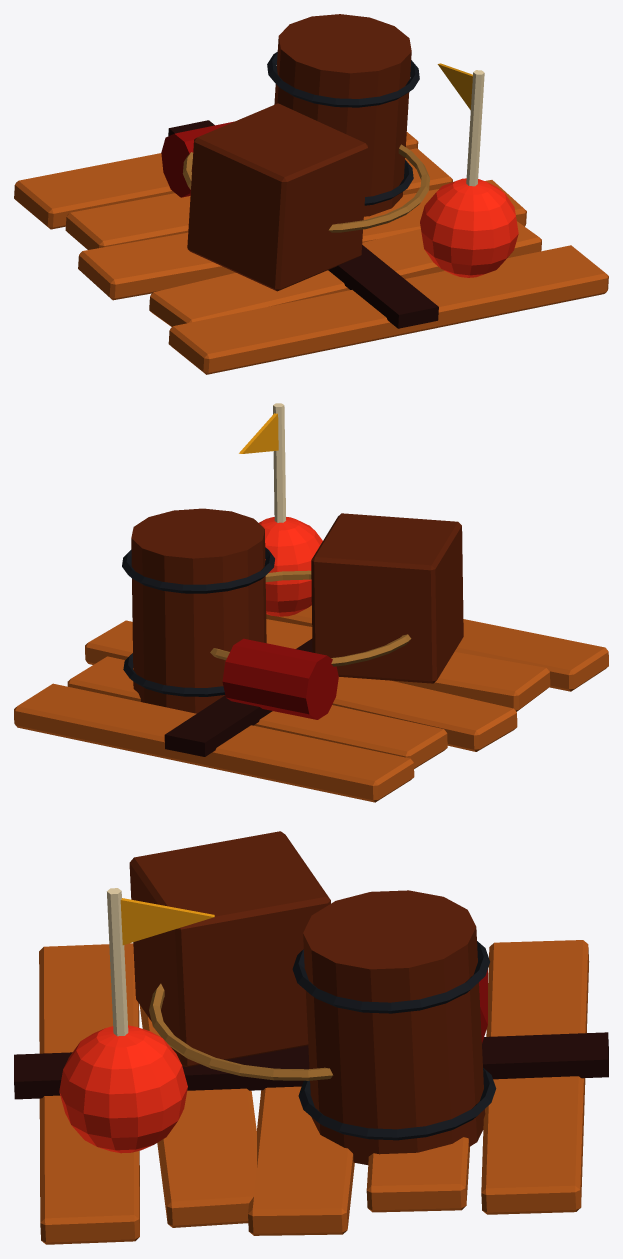
File: floating_salvage.three-web-toon.glb
3 views of the same model, one above another, from view 1: azimuth 30°, elevation 25°; view 2: azimuth 150°, elevation 25°; view 3: azimuth 270°, elevation 25° (orthographic). The views are drawn at different scales.
Parts seen in each view (by area): view 1: floating_salvage_mesh; view 2: floating_salvage_mesh; view 3: floating_salvage_mesh.
Boxes of the visible parts, left/top/right/bottom form: floating_salvage_mesh: left=14, top=14, right=608, bottom=374; floating_salvage_mesh: left=14, top=403, right=608, bottom=802; floating_salvage_mesh: left=14, top=831, right=608, bottom=1244.
Bounding box in the file's own units: 2.45 × 1.3 × 2.4.
